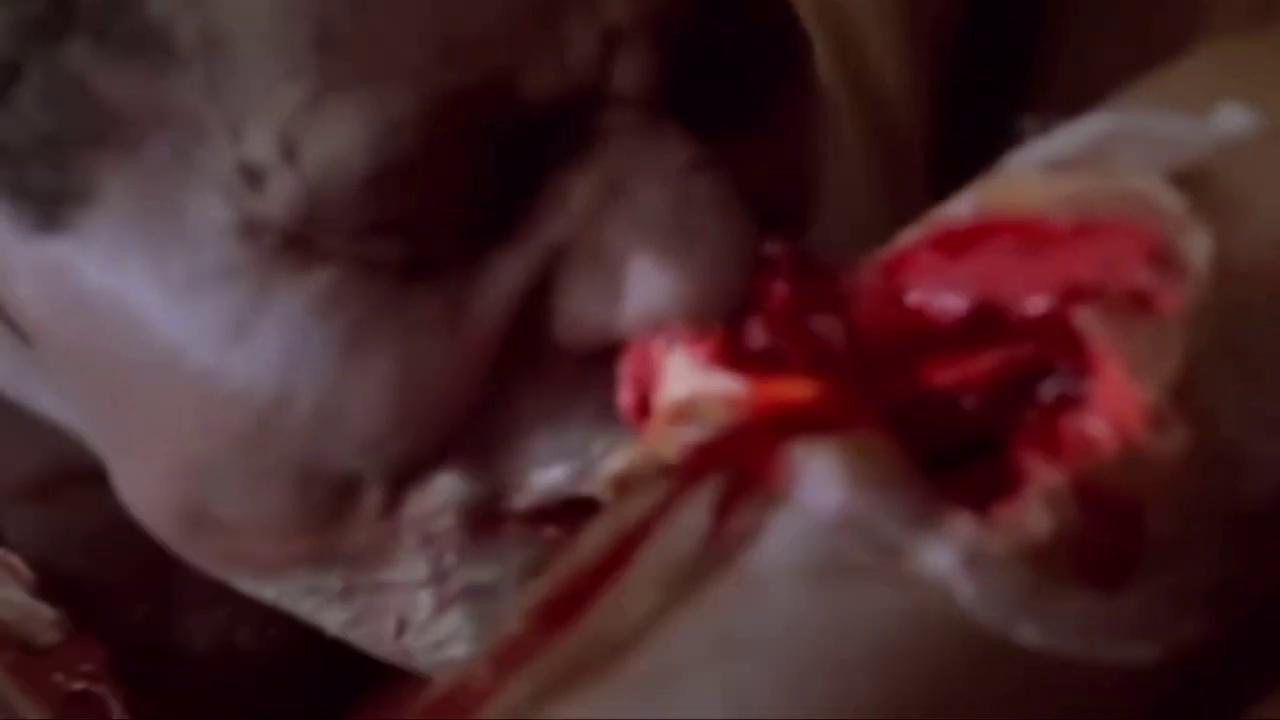Fire: (415, 100, 1264, 716)
